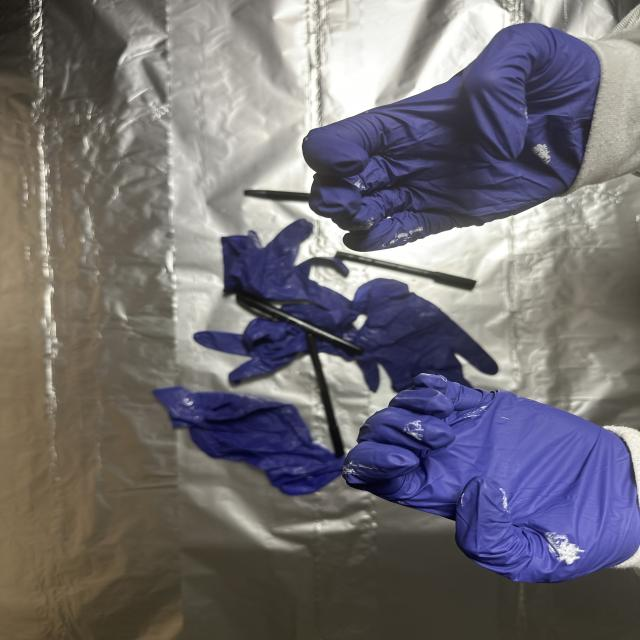gloves_contaminated: (303, 25, 600, 252), (343, 374, 640, 582)
